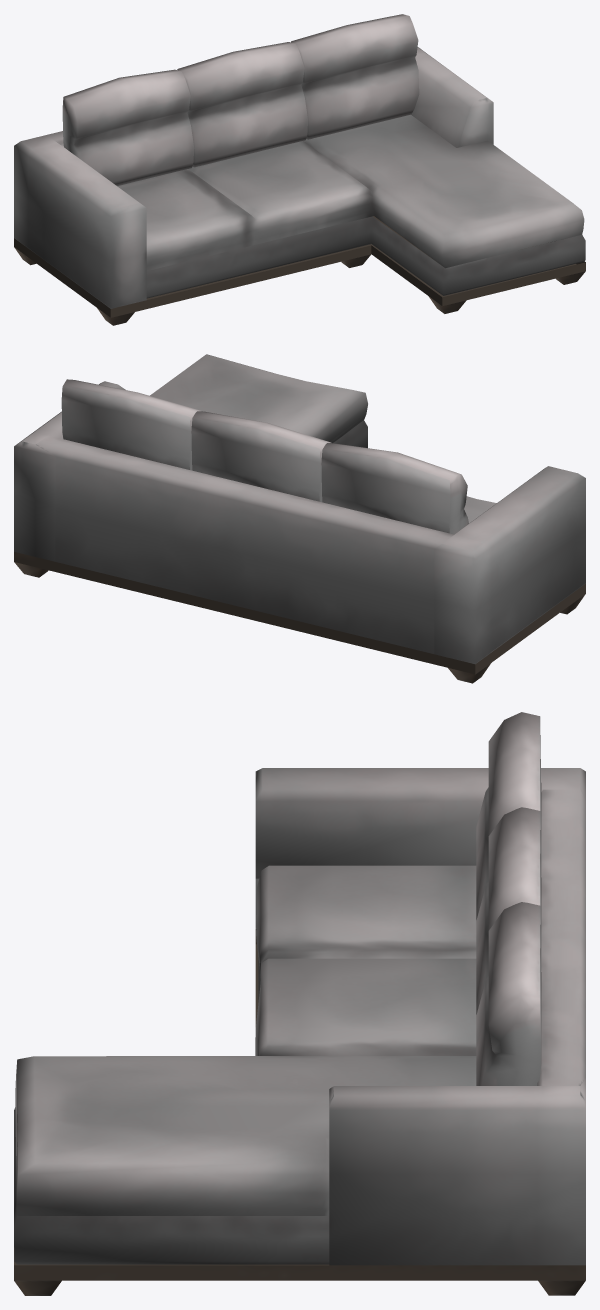
Rendered from Couch.fbx.
3 views of the same model, one above another, from view 1: azimuth 30°, elevation 25°; view 2: azimuth 150°, elevation 25°; view 3: azimuth 270°, elevation 25° (orthographic). The views are drawn at different scales.
Visible parts, largest first — view 1: Couch; view 2: Couch; view 3: Couch.
Boxes of the visible parts, x1,y1,x2,y2 form: Couch: (14,14,585,325); Couch: (14,354,585,683); Couch: (14,712,585,1295).
Bounding box in the file's own units: 2.81 × 1.13 × 2.02.
